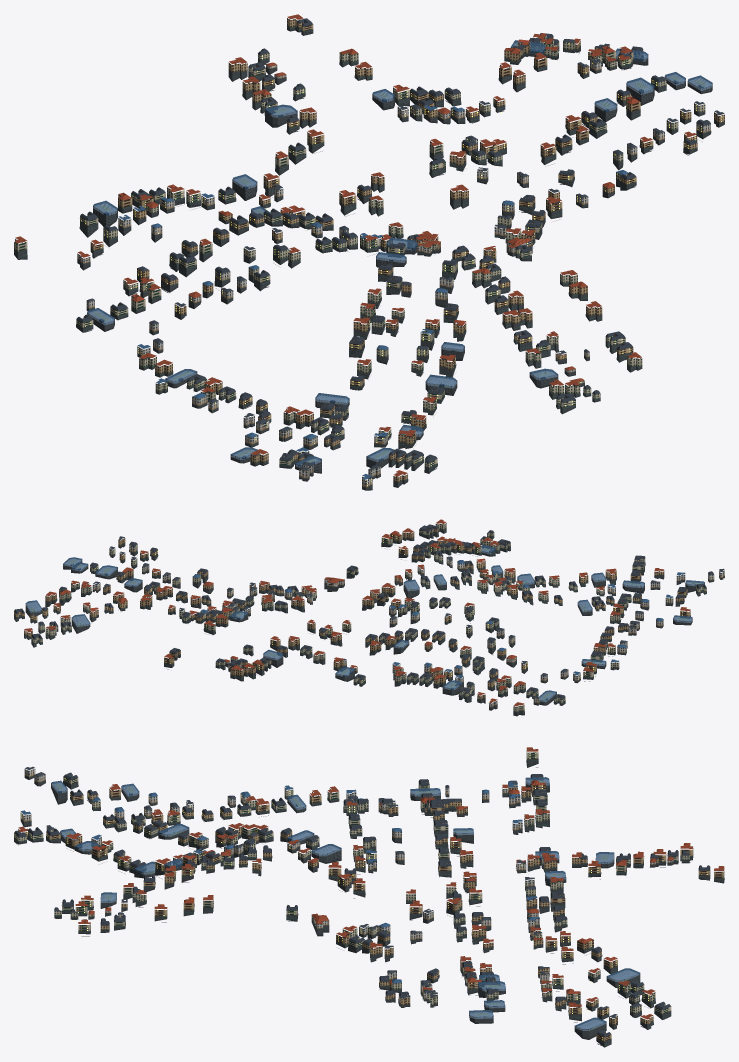
File: osm_buildings_T_W02_N02_Q4.glb
3 views of the same model, one above another, from view 1: azimuth 30°, elevation 25°; view 2: azimuth 150°, elevation 25°; view 3: azimuth 270°, elevation 25° (orthographic). The views are drawn at different scales.
Parts seen in each view (by area): view 1: OSM_T_W02_N02_Q4_foundation, OSM_T_W02_N02_Q4_wall_french_ochre, OSM_T_W02_N02_Q4_wall_cream_stucco, OSM_T_W02_N02_Q4_roof_mansard_slate, OSM_T_W02_N02_Q4_roof_terracotta, OSM_T_W02_N02_Q4_greenhouse_blend, OSM_T_W02_N02_Q4_roof_mansard_deck, OSM_T_W02_N02_Q4_wall_pastel_sand, OSM_T_W02_N02_Q4_roof_mint_metal, OSM_T_W02_N02_Q4_wall_warm_white, OSM_T_W02_N02_Q4_trim_cornice, OSM_T_W02_N02_Q4_balcony_railing (+2 smaller); view 2: OSM_T_W02_N02_Q4_foundation, OSM_T_W02_N02_Q4_wall_french_ochre, OSM_T_W02_N02_Q4_wall_cream_stucco, OSM_T_W02_N02_Q4_roof_mansard_slate, OSM_T_W02_N02_Q4_roof_terracotta, OSM_T_W02_N02_Q4_greenhouse_blend, OSM_T_W02_N02_Q4_roof_mansard_deck, OSM_T_W02_N02_Q4_wall_pastel_sand, OSM_T_W02_N02_Q4_wall_warm_white, OSM_T_W02_N02_Q4_roof_mint_metal, OSM_T_W02_N02_Q4_trim_cornice, OSM_T_W02_N02_Q4_roof_alpine_blue (+2 smaller); view 3: OSM_T_W02_N02_Q4_foundation, OSM_T_W02_N02_Q4_wall_french_ochre, OSM_T_W02_N02_Q4_wall_cream_stucco, OSM_T_W02_N02_Q4_roof_mansard_slate, OSM_T_W02_N02_Q4_roof_terracotta, OSM_T_W02_N02_Q4_greenhouse_blend, OSM_T_W02_N02_Q4_roof_mansard_deck, OSM_T_W02_N02_Q4_wall_pastel_sand, OSM_T_W02_N02_Q4_roof_mint_metal, OSM_T_W02_N02_Q4_trim_cornice, OSM_T_W02_N02_Q4_wall_warm_white, OSM_T_W02_N02_Q4_balcony_railing (+2 smaller).
Part boxes in pixels (left/top/right/bottom): OSM_T_W02_N02_Q4_foundation: left=14, top=25, right=724, bottom=490; OSM_T_W02_N02_Q4_wall_french_ochre: left=90, top=18, right=724, bottom=482; OSM_T_W02_N02_Q4_wall_cream_stucco: left=14, top=35, right=705, bottom=467; OSM_T_W02_N02_Q4_roof_mansard_slate: left=76, top=19, right=724, bottom=470; OSM_T_W02_N02_Q4_roof_terracotta: left=14, top=14, right=696, bottom=476; OSM_T_W02_N02_Q4_greenhouse_blend: left=87, top=40, right=712, bottom=467; OSM_T_W02_N02_Q4_roof_mansard_deck: left=78, top=18, right=710, bottom=467; OSM_T_W02_N02_Q4_wall_pastel_sand: left=77, top=59, right=664, bottom=487; OSM_T_W02_N02_Q4_roof_mint_metal: left=15, top=26, right=710, bottom=485; OSM_T_W02_N02_Q4_wall_warm_white: left=86, top=74, right=710, bottom=478; OSM_T_W02_N02_Q4_trim_cornice: left=14, top=18, right=722, bottom=480; OSM_T_W02_N02_Q4_balcony_railing: left=22, top=18, right=701, bottom=471; OSM_T_W02_N02_Q4_foundation: left=14, top=528, right=724, bottom=716; OSM_T_W02_N02_Q4_wall_french_ochre: left=14, top=528, right=690, bottom=699; OSM_T_W02_N02_Q4_wall_cream_stucco: left=31, top=523, right=706, bottom=711; OSM_T_W02_N02_Q4_roof_mansard_slate: left=14, top=526, right=724, bottom=699; OSM_T_W02_N02_Q4_roof_terracotta: left=24, top=519, right=690, bottom=706; OSM_T_W02_N02_Q4_greenhouse_blend: left=25, top=545, right=704, bottom=702; OSM_T_W02_N02_Q4_roof_mansard_deck: left=15, top=524, right=705, bottom=701; OSM_T_W02_N02_Q4_wall_pastel_sand: left=92, top=541, right=685, bottom=707; OSM_T_W02_N02_Q4_wall_warm_white: left=129, top=544, right=724, bottom=703; OSM_T_W02_N02_Q4_roof_mint_metal: left=16, top=530, right=705, bottom=712; OSM_T_W02_N02_Q4_trim_cornice: left=18, top=524, right=712, bottom=709; OSM_T_W02_N02_Q4_roof_alpine_blue: left=192, top=560, right=685, bottom=678; OSM_T_W02_N02_Q4_foundation: left=14, top=757, right=724, bottom=1047; OSM_T_W02_N02_Q4_wall_french_ochre: left=18, top=781, right=724, bottom=1041; OSM_T_W02_N02_Q4_wall_cream_stucco: left=14, top=750, right=689, bottom=1014; OSM_T_W02_N02_Q4_roof_mansard_slate: left=14, top=766, right=710, bottom=1037; OSM_T_W02_N02_Q4_roof_terracotta: left=18, top=747, right=724, bottom=1019; OSM_T_W02_N02_Q4_greenhouse_blend: left=51, top=777, right=640, bottom=1030; OSM_T_W02_N02_Q4_roof_mansard_deck: left=16, top=772, right=708, bottom=1034; OSM_T_W02_N02_Q4_wall_pastel_sand: left=20, top=787, right=673, bottom=998; OSM_T_W02_N02_Q4_roof_mint_metal: left=15, top=760, right=723, bottom=1044; OSM_T_W02_N02_Q4_trim_cornice: left=18, top=763, right=723, bottom=1038; OSM_T_W02_N02_Q4_wall_warm_white: left=24, top=769, right=656, bottom=1003; OSM_T_W02_N02_Q4_balcony_railing: left=14, top=754, right=707, bottom=1045.
Size of the model in its own units: 965 by 161 by 989.
16 materials, 16 textured.
